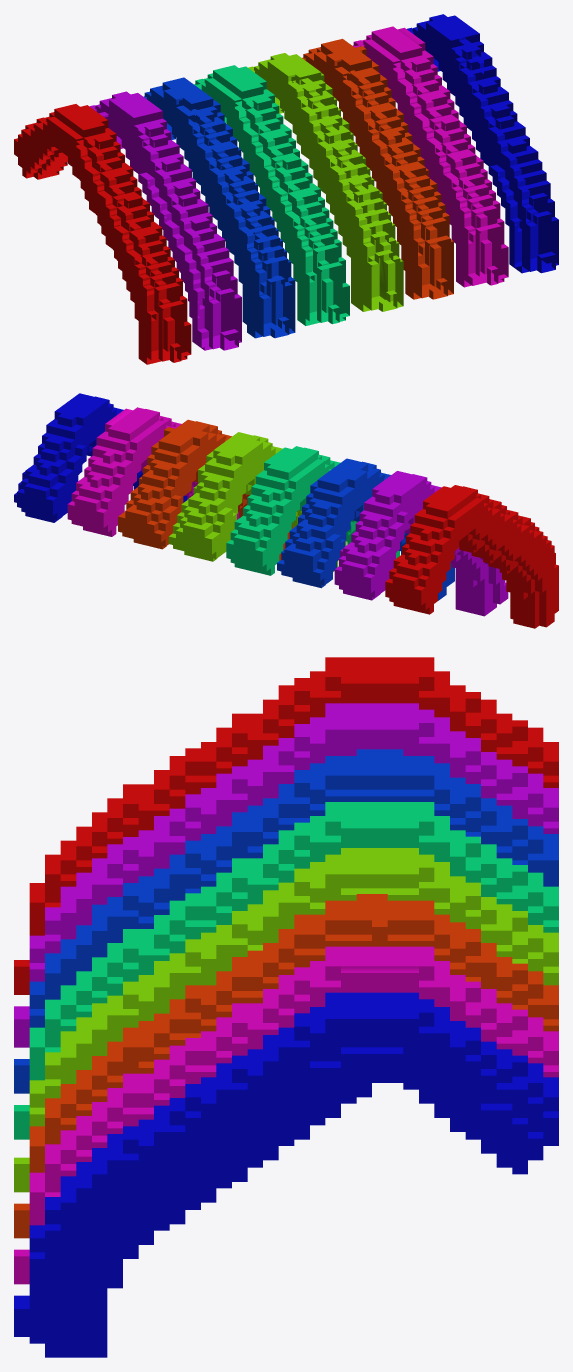
The model's file is cockpit_core_engine_top_pipes_2-1.fbx.
The picture shows the model from 3 angles, top to bottom: view 1: azimuth 30°, elevation 25°; view 2: azimuth 150°, elevation 25°; view 3: azimuth 270°, elevation 25°; orthographic projection. The views are drawn at different scales.
Visible parts, largest first — view 1: cockpit_core_engine_top_pipes; view 2: cockpit_core_engine_top_pipes; view 3: cockpit_core_engine_top_pipes.
Boxes of the visible parts, <box> form: cockpit_core_engine_top_pipes: <box>14,14,558,364</box>; cockpit_core_engine_top_pipes: <box>14,393,558,628</box>; cockpit_core_engine_top_pipes: <box>14,657,558,1357</box>.
Size of the model in its own units: 938 by 395 by 576.
